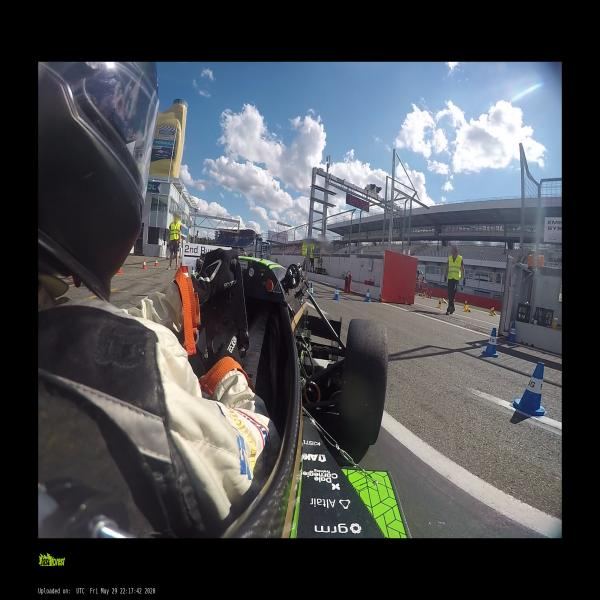blue_cone: (514, 362, 549, 416), (482, 328, 498, 358), (506, 322, 519, 344), (333, 286, 340, 301), (364, 288, 371, 301), (310, 283, 315, 301), (191, 266, 195, 277)
orange_cone: (142, 259, 147, 269), (154, 258, 158, 267)
yellow_cone: (488, 307, 495, 317), (464, 305, 472, 313), (436, 299, 442, 308), (464, 300, 467, 310), (422, 293, 425, 299)
